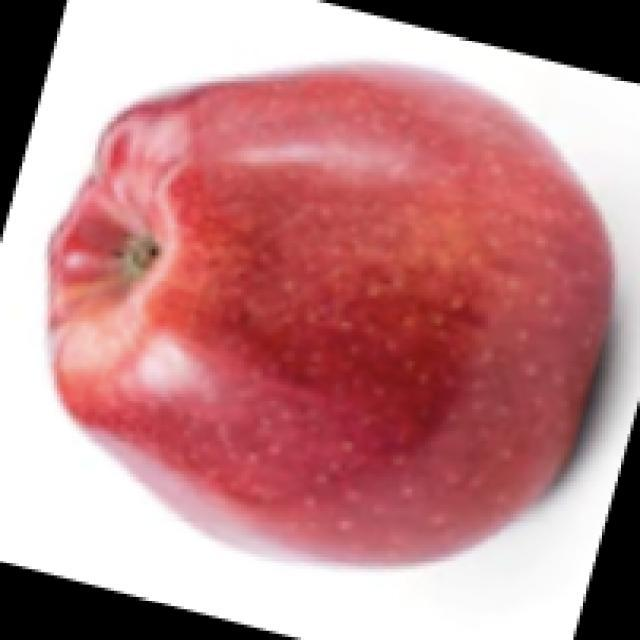Fresh Apple: (60, 61, 608, 562)
